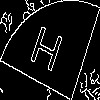H: (25, 24, 65, 82)
